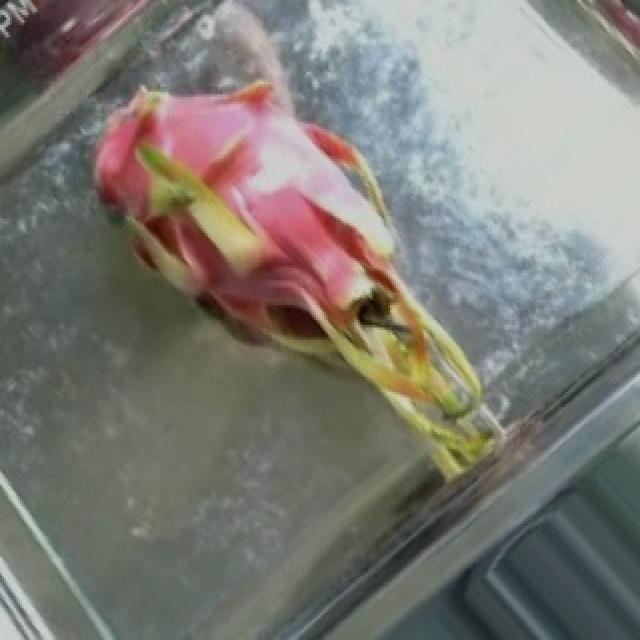fruit: (12, 17, 432, 464)
